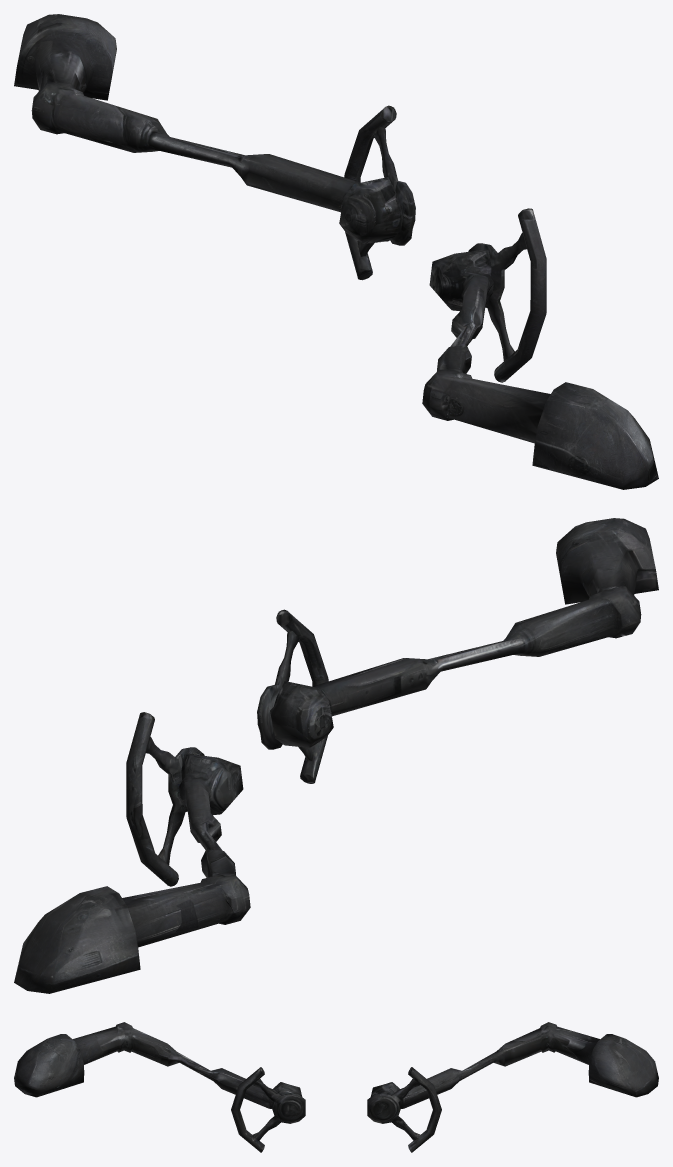
The model's file is _0609193727_texture.fbx.
The picture shows the model from 3 angles, top to bottom: view 1: azimuth 30°, elevation 25°; view 2: azimuth 150°, elevation 25°; view 3: azimuth 270°, elevation 25°; orthographic projection. The views are drawn at different scales.
Parts seen in each view (by area): view 1: Mesh_0; view 2: Mesh_0; view 3: Mesh_0.
Boxes of the visible parts, x1,y1,x2,y2 form: Mesh_0: (14,14,658,489); Mesh_0: (14,518,658,993); Mesh_0: (14,1022,658,1152).
Size of the model in its own units: 46.18 by 31.29 by 200.
1 material, 1 textured.
